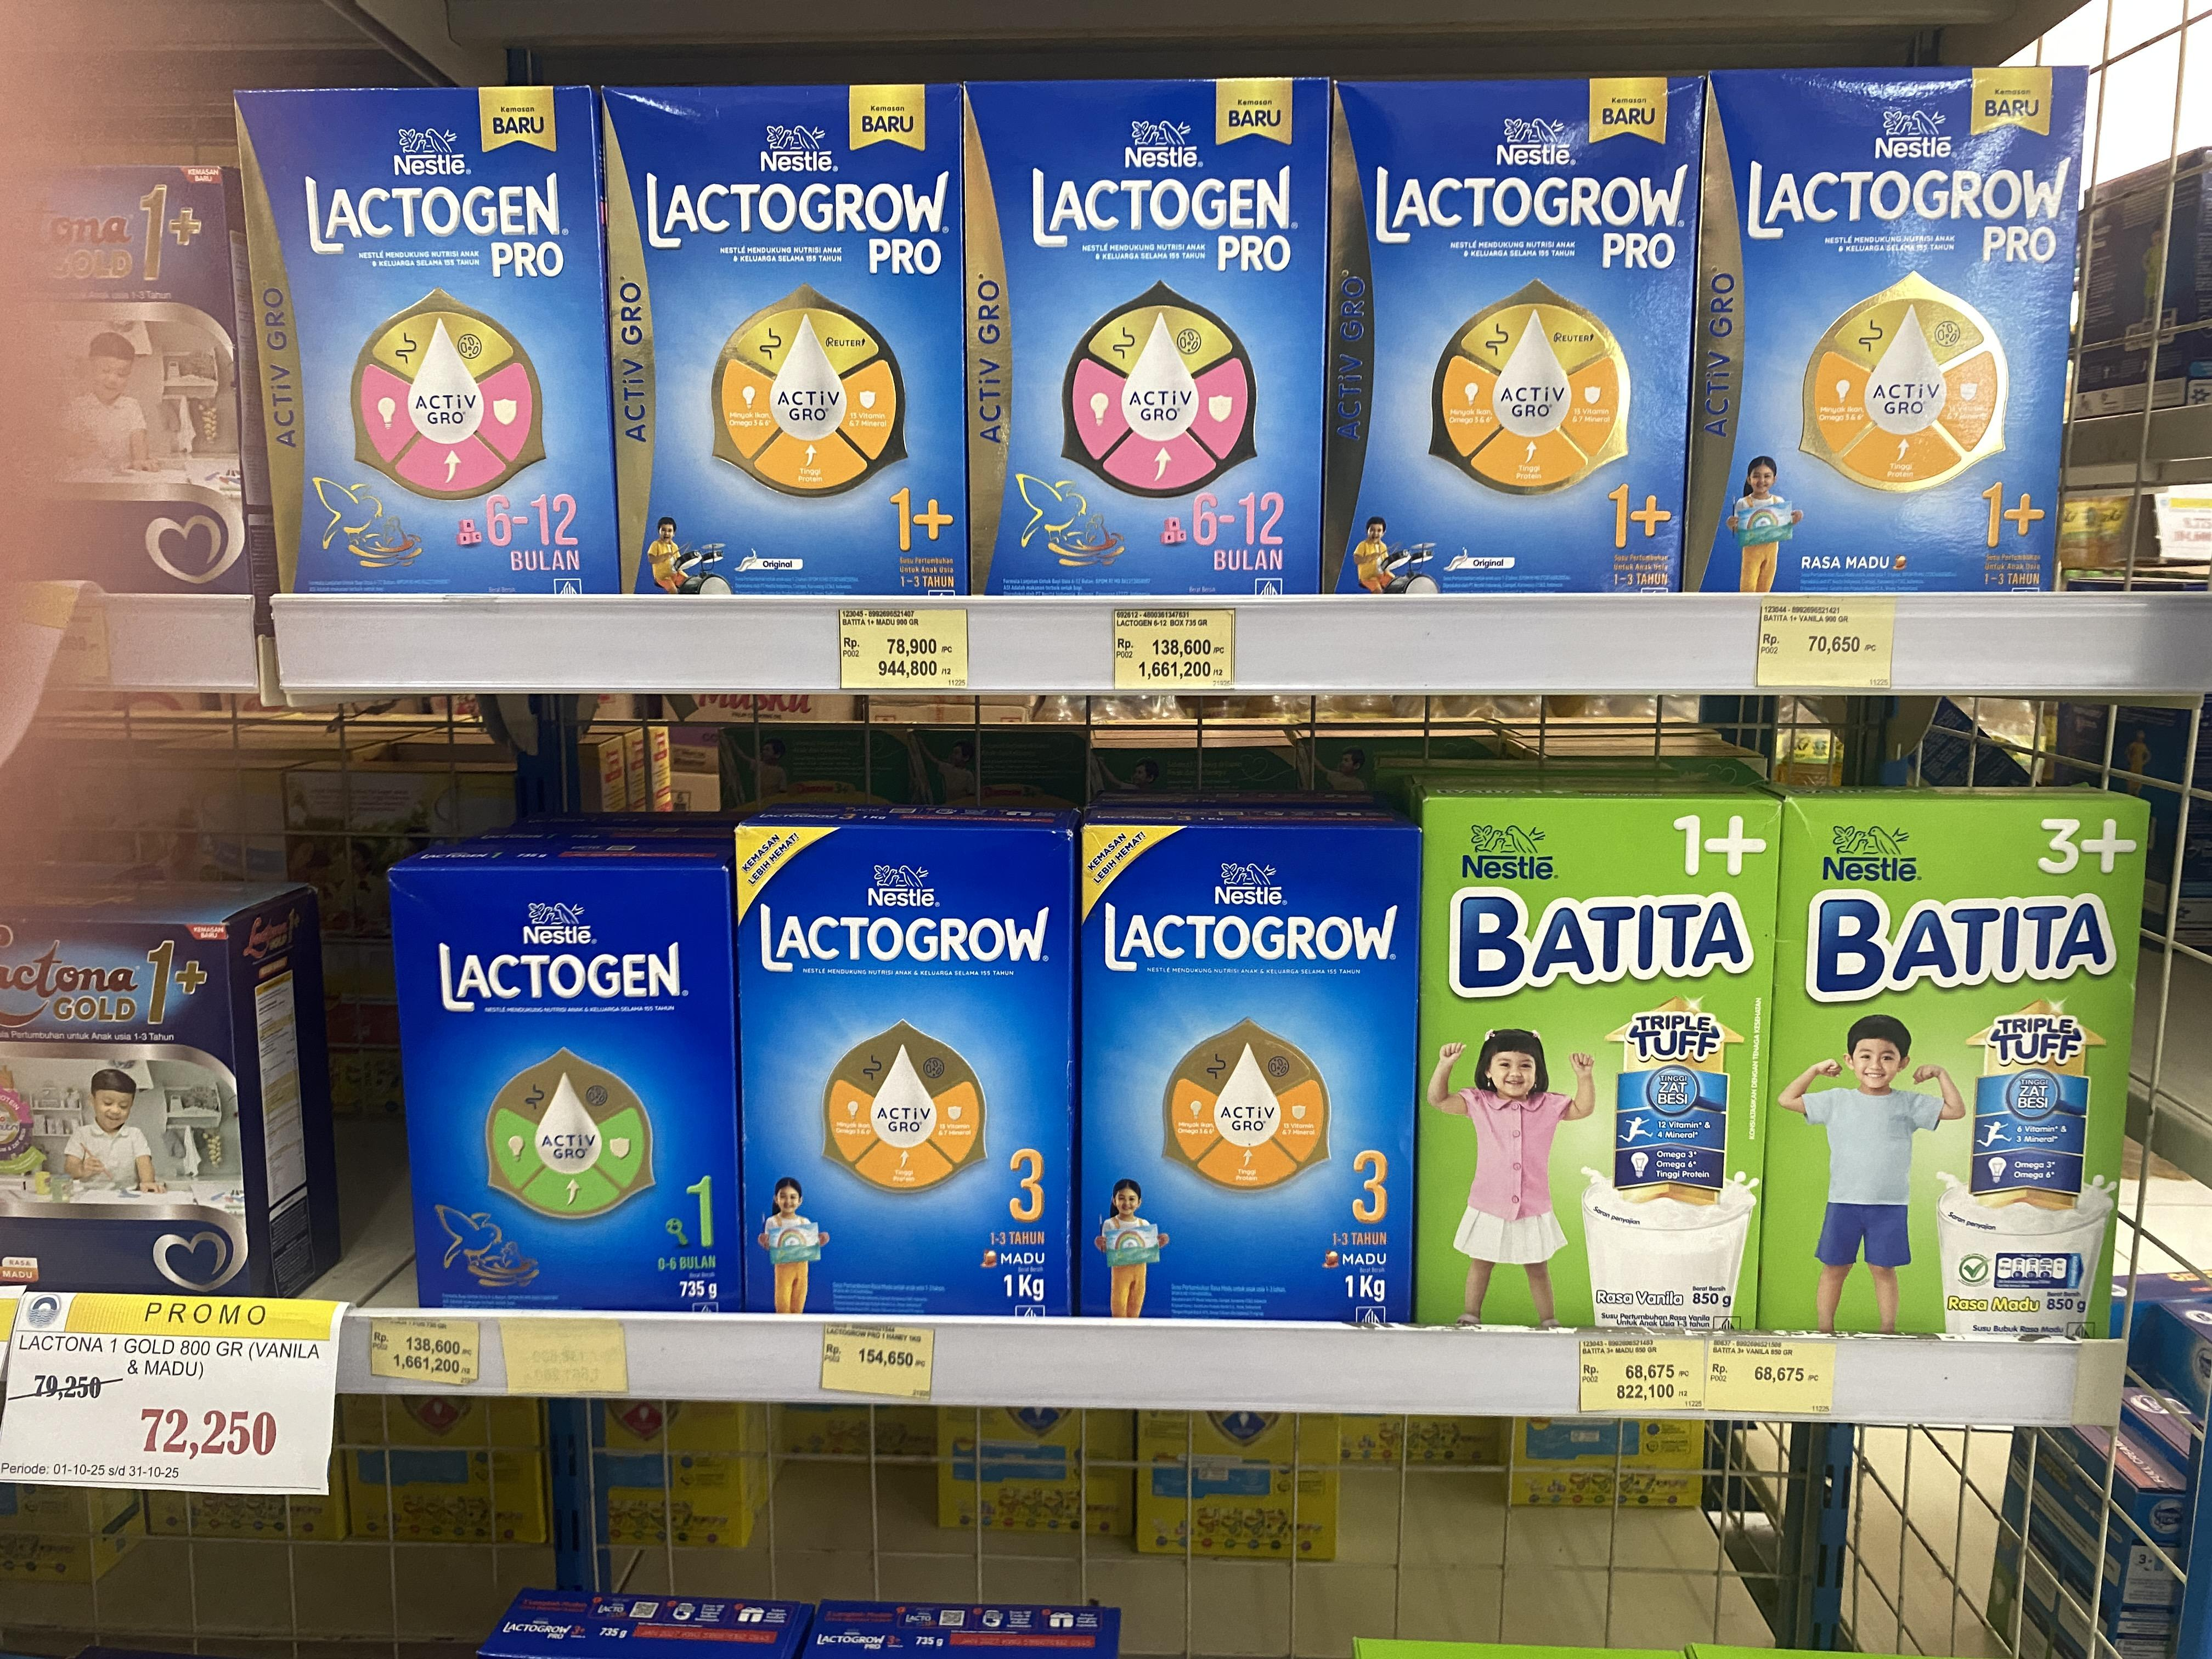LACTOGEN 1 Happynutri 12x750g N1 ID_REDESIGN2: (399, 863, 742, 1316)
LACTOGEN 1 Happynutri 40x180g N1 ID_REDESIGN2: (401, 861, 744, 1316)
LACTOGEN PRO 0-6 mo 12x735g ID: (237, 89, 617, 591)
LACTOGEN PRO 0-6 mo 24x350g ID: (963, 80, 1320, 594)
LACTOGEN PRO 6-12 mo 12x735g ID: (1075, 824, 1421, 1326)
LACTOGROW 3 Happynutri Honey 12x750g N1 ID_REDESIGN2: (1076, 826, 1421, 1328)
